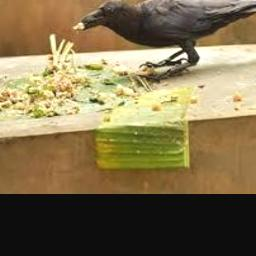Crow: (77, 0, 256, 73)
